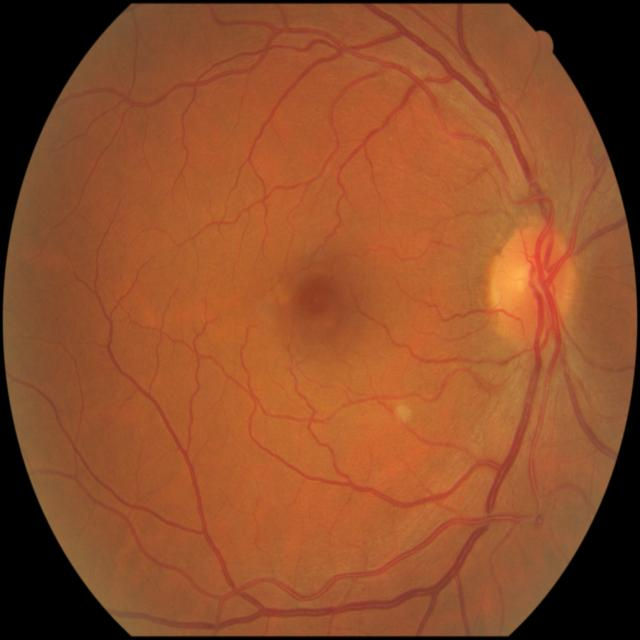OC: (514, 261, 549, 299)
OD: (489, 225, 577, 342)
